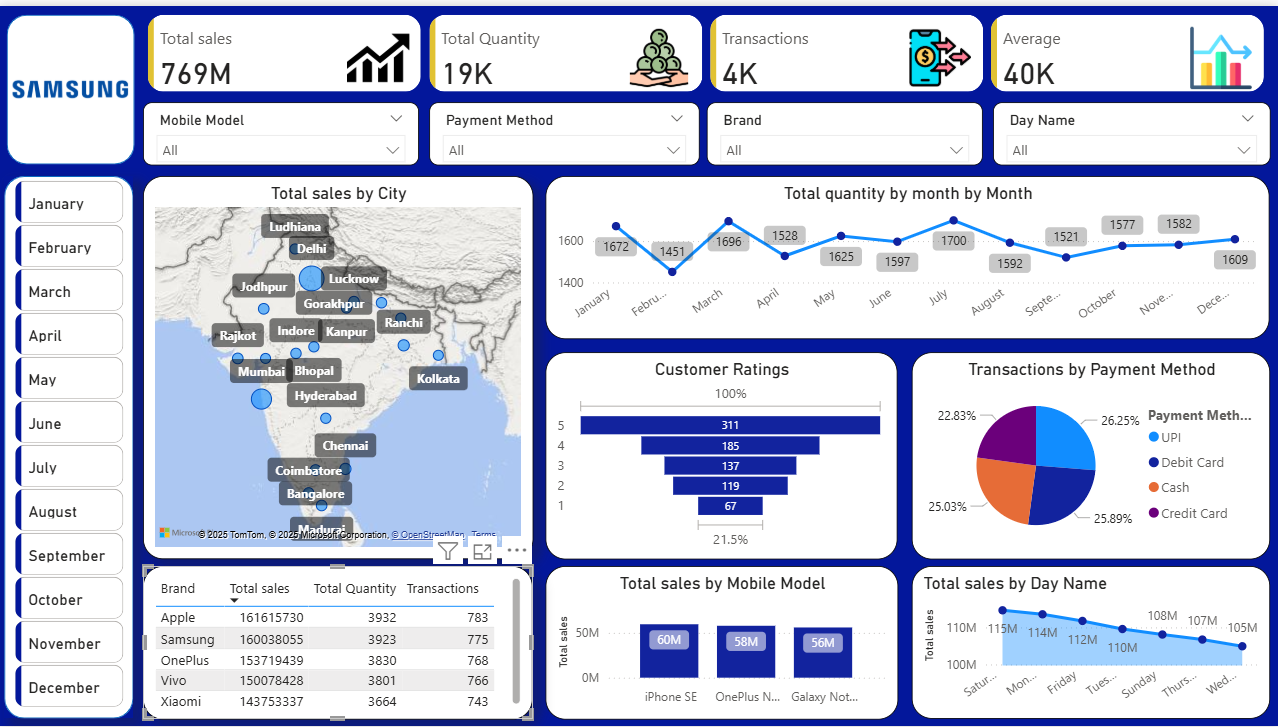

What the dashboard file says about the page in this screenshot:
{"tool":"powerbi","page":{"name":"Page 1","canvas":[1280,720],"ordinal":0},"visuals":[{"type":"shape","box":[8.2,8.2,127.8,149.7],"z":0},{"type":"shape","box":[6.9,170.3,129.1,542.6],"z":1000},{"type":"advancedSlicerVisual","fields":{"Values":["sales data.Date.Variation.Date Hierarchy.Month"]},"box":[12.4,170.3,118.1,542.6],"z":2000},{"type":"cardVisual","fields":{"Data":["sales data.Total sales","sales data.Total Quantity","sales data.Transactions","sales data.Average"]},"box":[145.6,8.2,1126.4,82.4],"z":3000},{"type":"map","fields":{"Category":["sales data.City"],"Size":["sales data.Total sales"]},"box":[145.6,170.3,390.1,383.3],"z":4000},{"type":"image","box":[8.2,41.2,127.8,83.8],"z":5000},{"type":"lineChart","fields":{"Y":["Sum(sales data.Units Sold)"],"Category":["sales data.Date.Variation.Date Hierarchy.Month","sales data.Date.Variation.Date Hierarchy.Day"]},"box":[548.1,170.3,723.9,163.5],"z":6000},{"type":"clusteredColumnChart","fields":{"Category":["sales data.Mobile Model"],"Y":["sales data.Total sales"]},"box":[547.5,559.9,352.7,153.7],"z":7000},{"type":"pieChart","fields":{"Category":["sales data.Payment Method"],"Y":["sales data.Transactions"]},"box":[913.5,346.2,358.5,207.4],"z":8000},{"type":"funnel","title":"Customer Ratings","fields":{"Category":["sales data.Customer Ratings"],"Y":["CountNonNull(sales data.Customer Ratings)"]},"box":[548.1,346.2,351.7,207.4],"z":9000},{"type":"areaChart","fields":{"Category":["sales data.Day Name"],"Y":["sales data.Total sales"]},"box":[913.5,560.5,358.5,152.5],"z":10000},{"type":"tableEx","fields":{"Values":["sales data.Brand","sales data.Total sales","sales data.Total Quantity","sales data.Transactions"]},"box":[145.5,559.9,389.7,153.7],"z":11000},{"type":"slicer","fields":{"Values":["sales data.Mobile Model"]},"box":[145.6,96.2,276.1,63.2],"z":12000},{"type":"slicer","fields":{"Values":["sales data.Payment Method"]},"box":[431.3,96.2,270.6,63.2],"z":12001},{"type":"slicer","fields":{"Values":["sales data.Brand"]},"box":[708.8,96.2,276.1,63.2],"z":12002},{"type":"slicer","fields":{"Values":["sales data.Day Name"]},"box":[994.6,96.2,277.5,63.2],"z":12003}]}

Visuals, with their boxes in screenshot pixels (x1, y1, x2, y2), scaled from the page's 1280x720 canvas onto the 1278x727 screenshot:
shape: rect(8, 8, 136, 159)
shape: rect(7, 172, 136, 720)
advancedSlicerVisual - sales data.Date.Variation.Date Hierarchy.Month: rect(12, 172, 130, 720)
cardVisual - sales data.Total sales x sales data.Total Quantity: rect(145, 8, 1270, 91)
map - sales data.City x sales data.Total sales: rect(145, 172, 535, 559)
image: rect(8, 42, 136, 126)
lineChart - Sum(sales data.Units Sold) x sales data.Date.Variation.Date Hierarchy.Month: rect(547, 172, 1270, 337)
clusteredColumnChart - sales data.Mobile Model x sales data.Total sales: rect(547, 565, 899, 721)
pieChart - sales data.Payment Method x sales data.Transactions: rect(912, 350, 1270, 559)
"Customer Ratings" funnel: rect(547, 350, 898, 559)
areaChart - sales data.Day Name x sales data.Total sales: rect(912, 566, 1270, 720)
tableEx - sales data.Brand x sales data.Total sales: rect(145, 565, 534, 721)
slicer - sales data.Mobile Model: rect(145, 97, 421, 161)
slicer - sales data.Payment Method: rect(431, 97, 701, 161)
slicer - sales data.Brand: rect(708, 97, 983, 161)
slicer - sales data.Day Name: rect(993, 97, 1270, 161)
